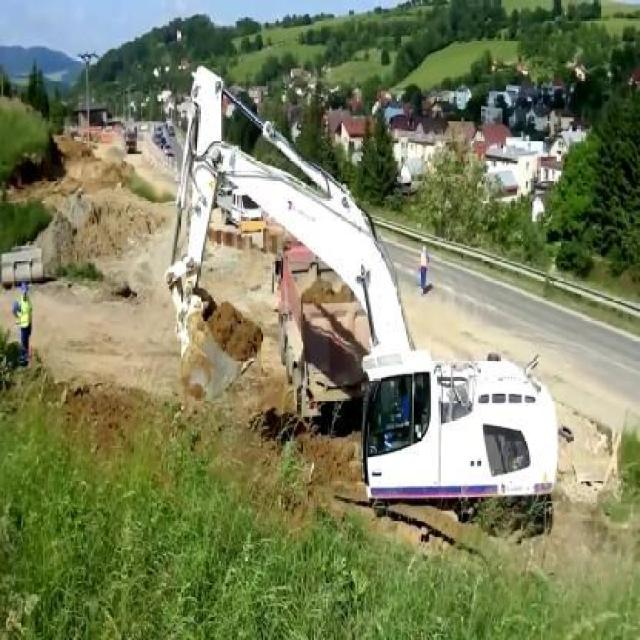dump_truck: (271, 244, 372, 433)
excavator: (164, 61, 559, 537)
